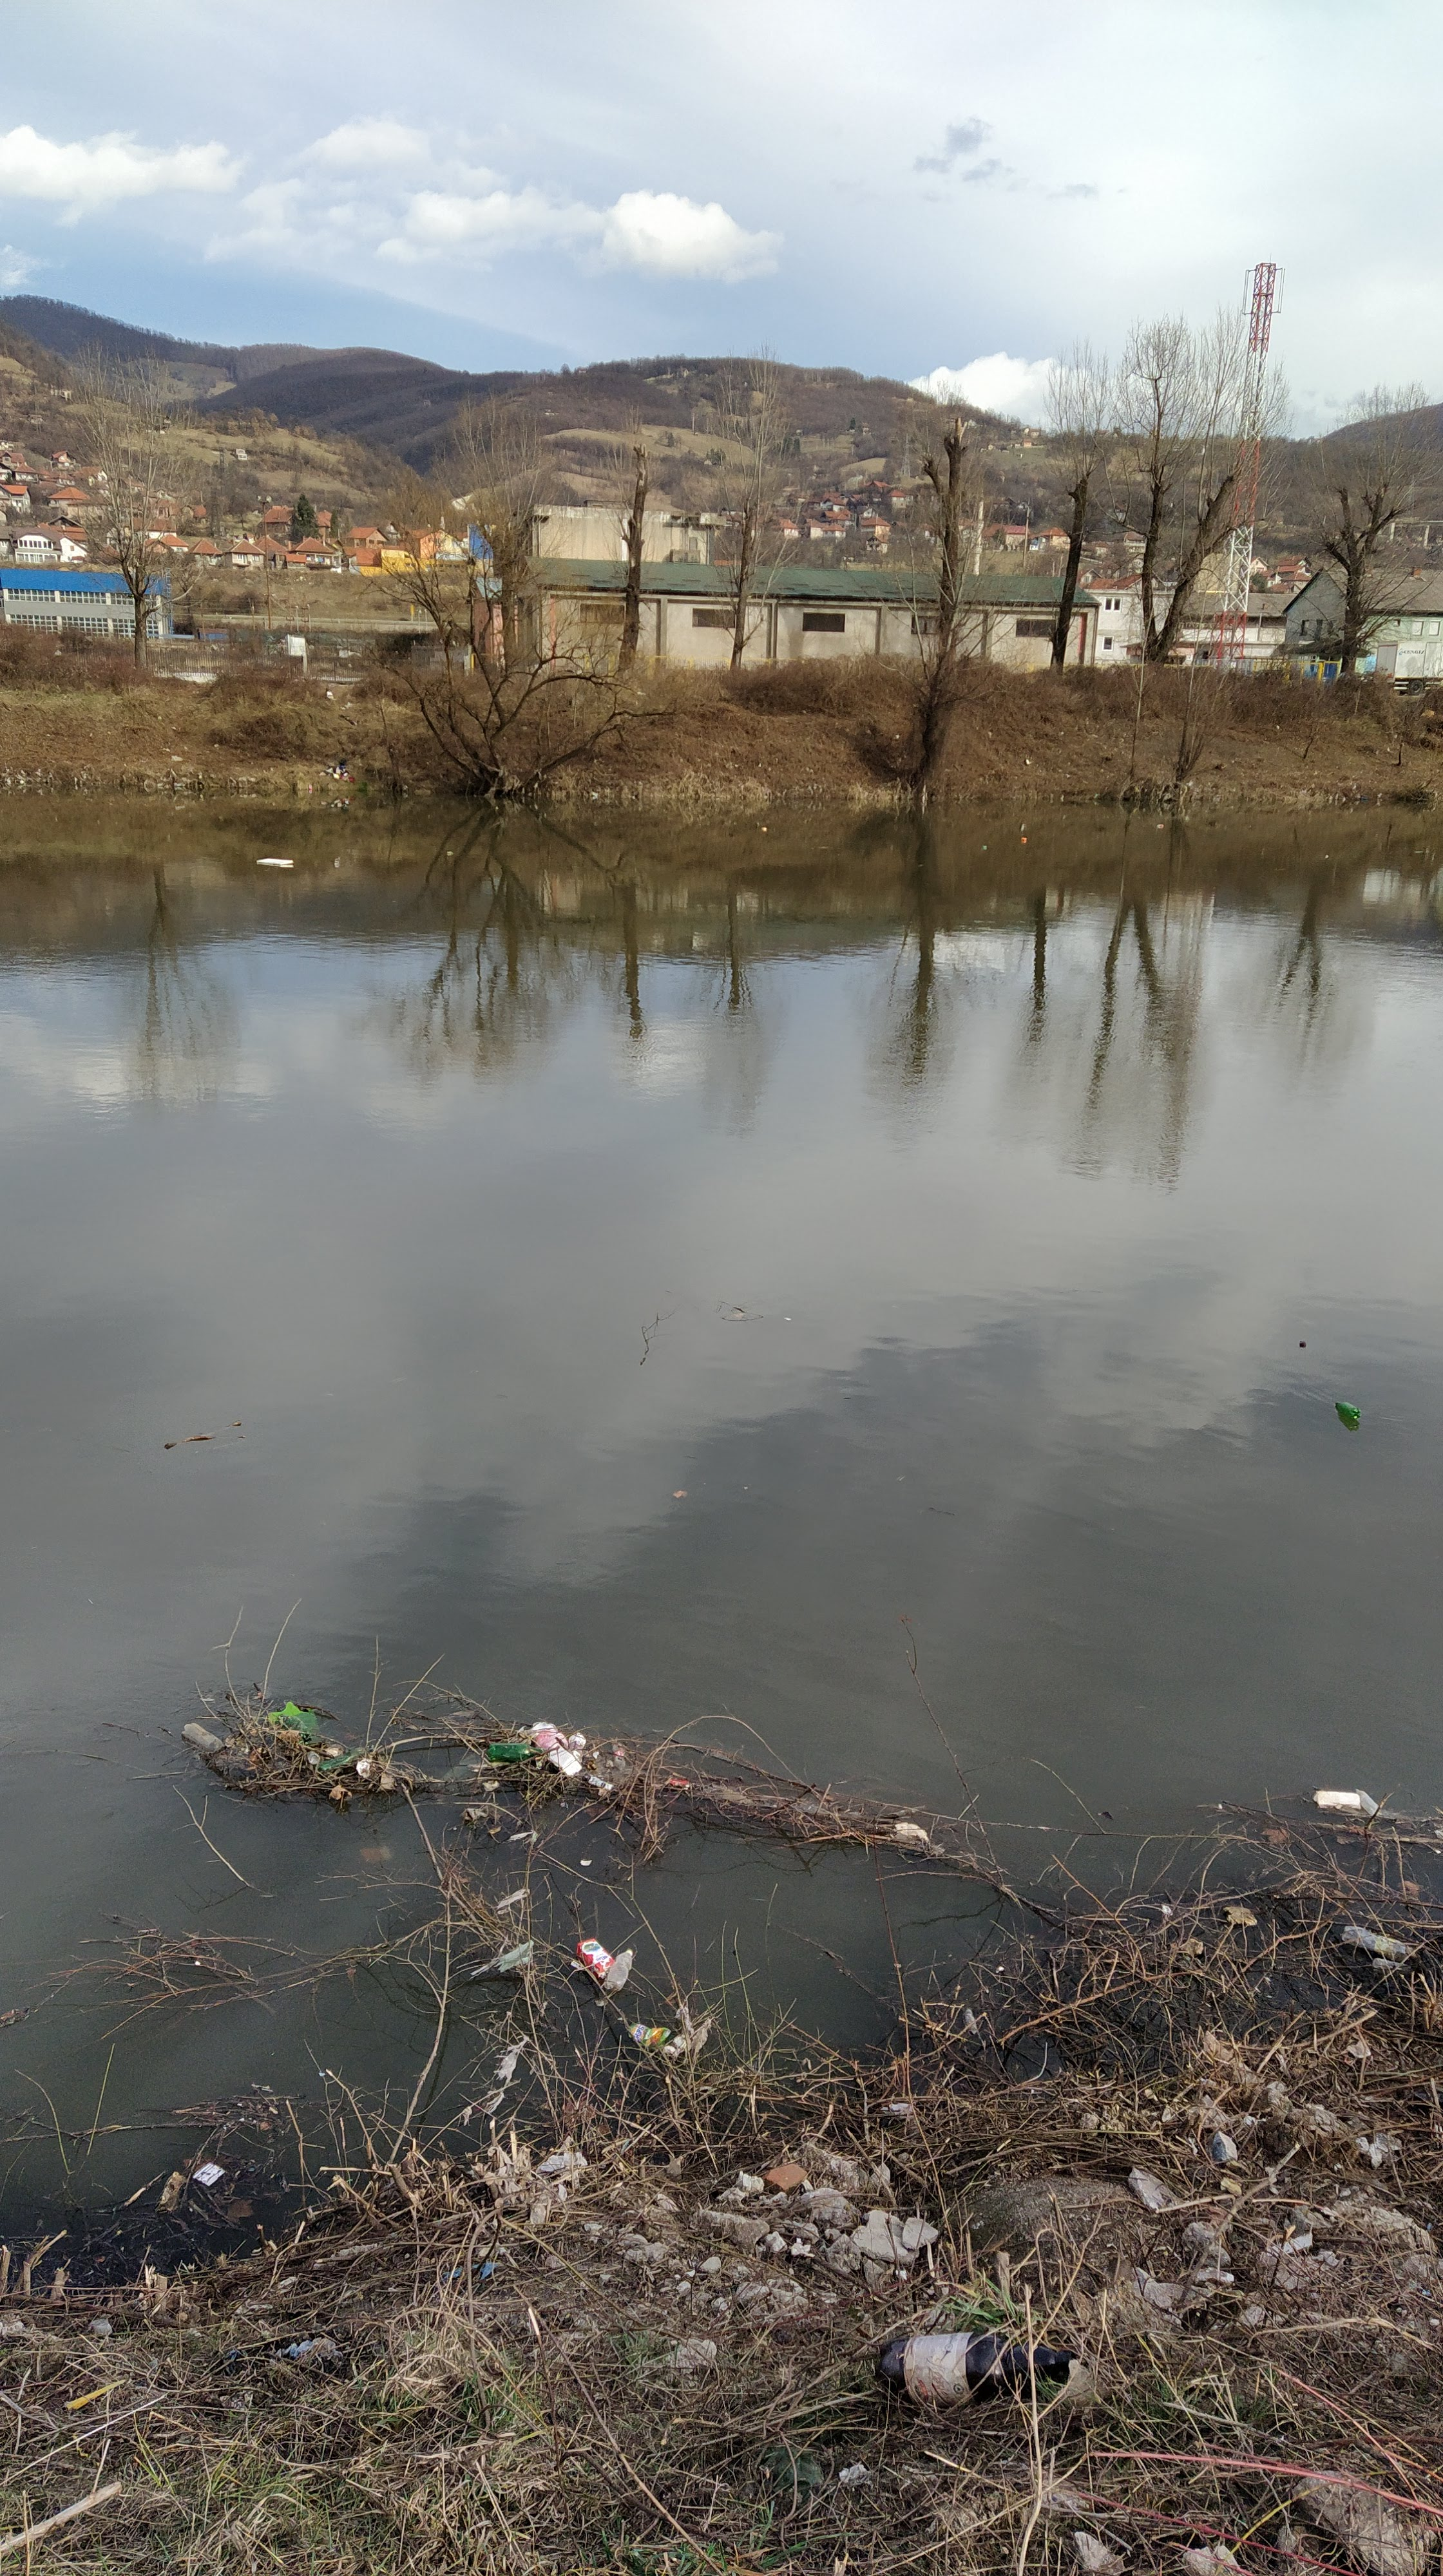Plastic Bottle: (1342, 1925, 1408, 1957), (182, 1721, 225, 1753), (604, 1948, 634, 1992), (487, 1743, 544, 1762), (319, 1748, 370, 1769), (629, 2022, 671, 2043), (283, 1716, 312, 1743), (1356, 1789, 1381, 1815), (1335, 1401, 1362, 1421), (1374, 1959, 1409, 1973), (611, 1743, 625, 1771), (306, 1750, 320, 1766), (1156, 824, 1163, 828), (981, 846, 988, 849), (1022, 837, 1025, 842), (761, 826, 767, 830)
